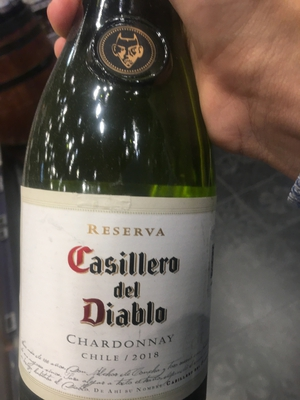casillero del diablo chardonnay: (20, 23, 215, 400)
